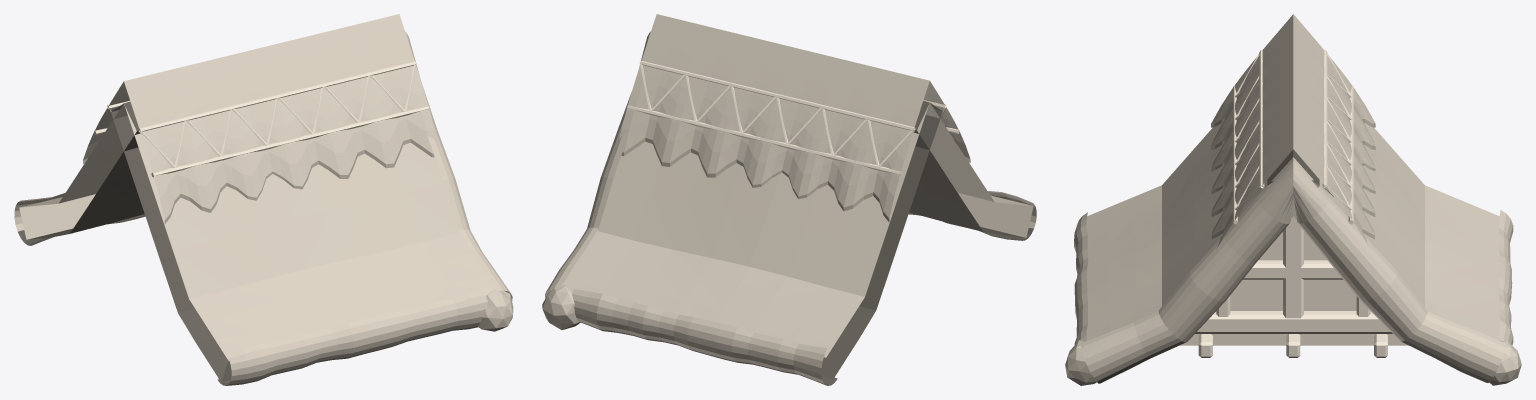
Rendered from SM_VK_RoofThatchS_Gable.fbx.
3 views of the same model, side by side, from view 1: azimuth 30°, elevation 25°; view 2: azimuth 150°, elevation 25°; view 3: azimuth 270°, elevation 25° (orthographic).
Parts seen in each view (by area): view 1: SM_VK_RoofThatchS_Gable.001; view 2: SM_VK_RoofThatchS_Gable.001; view 3: SM_VK_RoofThatchS_Gable.001.
Part boxes in pixels (x1,y1,x2,y2): SM_VK_RoofThatchS_Gable.001: (14,14,513,385); SM_VK_RoofThatchS_Gable.001: (542,14,1036,385); SM_VK_RoofThatchS_Gable.001: (1065,14,1521,385).
Bounding box in the file's own units: 3.83 × 3.02 × 5.21.
